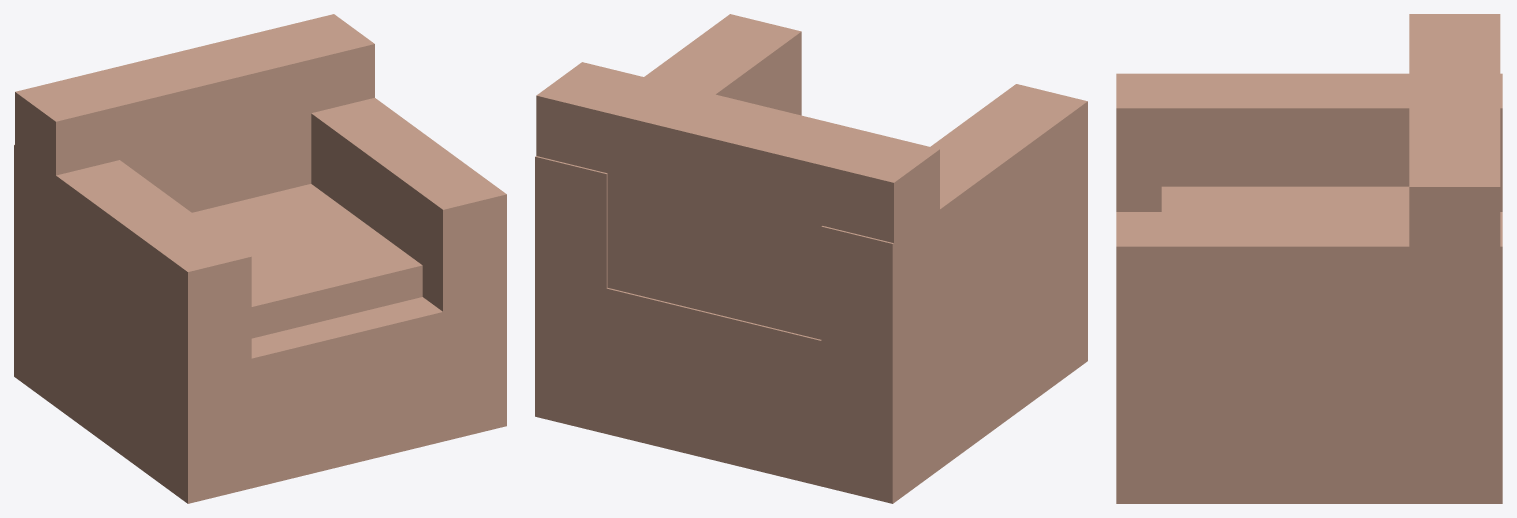
Rendered from fu_armchair.glb.
3 views of the same model, side by side, from view 1: azimuth 30°, elevation 25°; view 2: azimuth 150°, elevation 25°; view 3: azimuth 270°, elevation 25° (orthographic). The views are drawn at different scales.
Parts seen in each view (by area): view 1: fu_armchair; view 2: fu_armchair; view 3: fu_armchair.
Part boxes in pixels (x1,y1,x2,y2): fu_armchair: (14, 14, 506, 503); fu_armchair: (535, 14, 1087, 503); fu_armchair: (1116, 14, 1502, 503).
Bounding box in the file's own units: 0.9 × 0.77 × 0.85.
